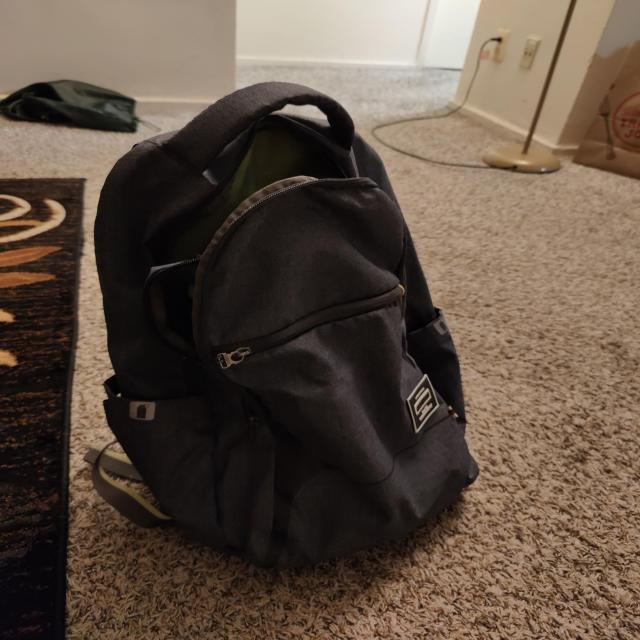bag: (96, 74, 476, 574)
